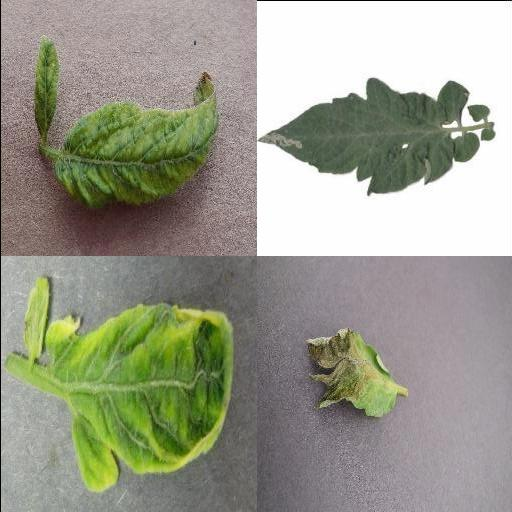Late Blight: (303, 328, 399, 418)
Leaf Miner: (256, 73, 455, 195)
Yellow Leaf Curl Virus: (46, 303, 234, 493), (52, 72, 218, 206), (29, 34, 59, 138), (17, 275, 51, 362)
